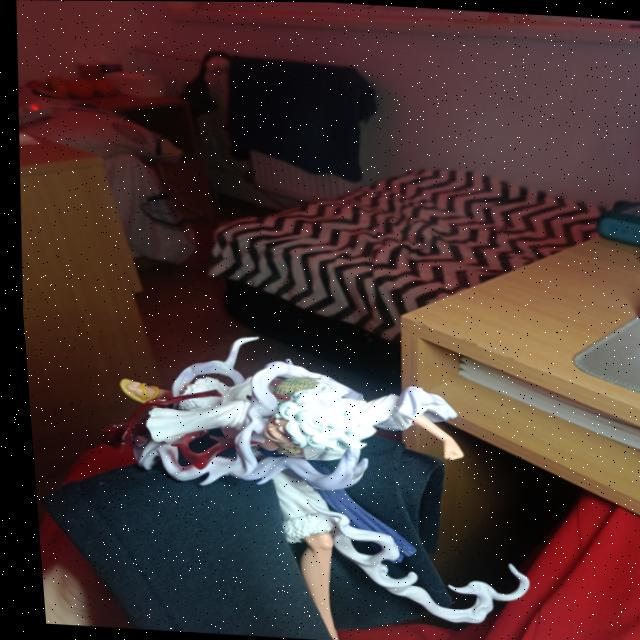luffy: (99, 325, 540, 640)
